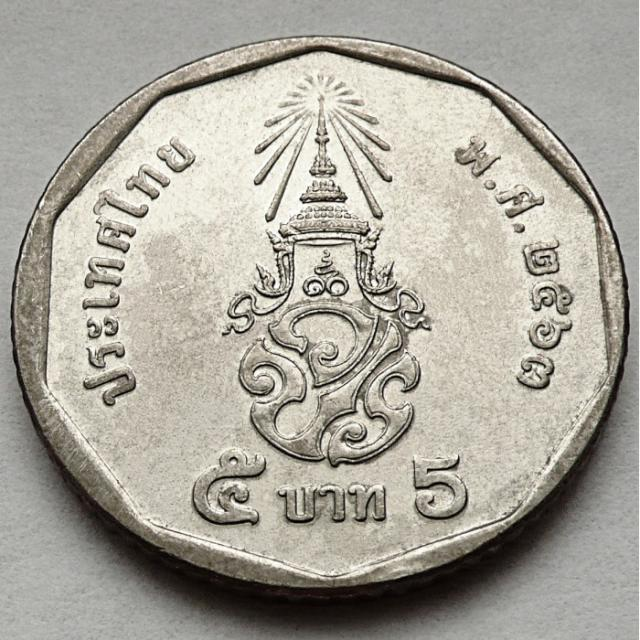5 Bath: (10, 34, 633, 619)
